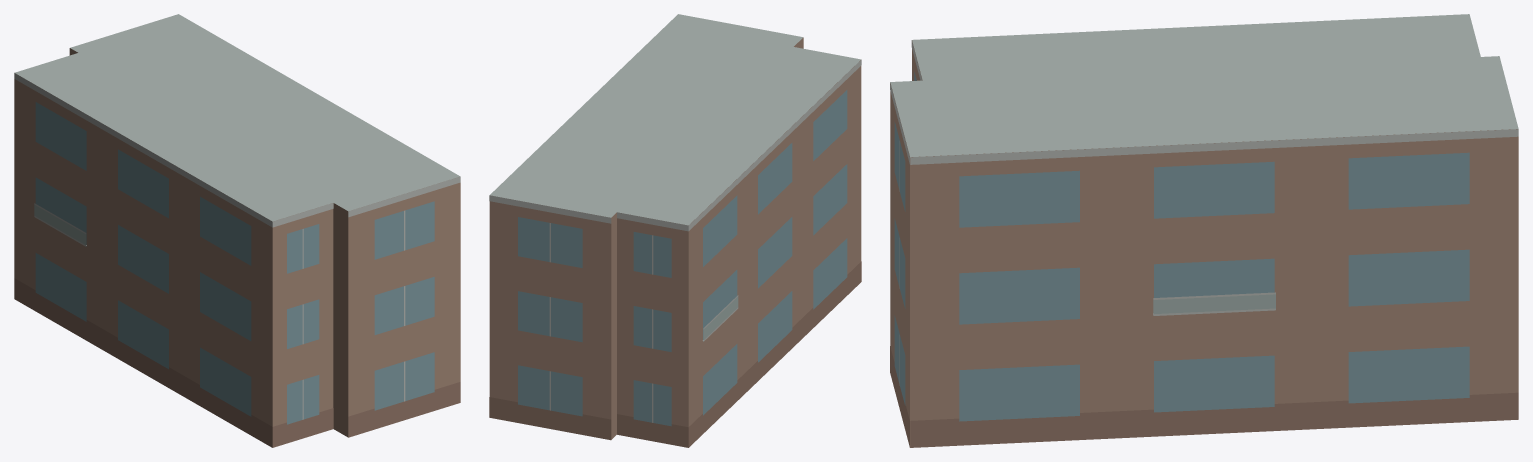
File: survey-upis-32804927.glb
3 renders of one model, left to right at view 1: azimuth 30°, elevation 25°; view 2: azimuth 150°, elevation 25°; view 3: azimuth 270°, elevation 25°, orthographic. The views are drawn at different scales.
Parts seen in each view (by area): view 1: survey-upis-32804927.tmp; view 2: survey-upis-32804927.tmp; view 3: survey-upis-32804927.tmp.
Part boxes in pixels (x1,y1,x2,y2): survey-upis-32804927.tmp: [14, 14, 460, 447]; survey-upis-32804927.tmp: [489, 14, 861, 447]; survey-upis-32804927.tmp: [890, 14, 1518, 447].
Bounding box in the file's own units: 9.67 × 9.15 × 17.94.
